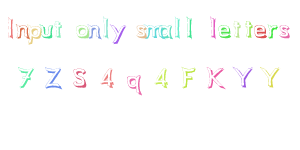4: (148, 60, 174, 91), (95, 62, 119, 92)
7: (13, 60, 37, 90)
F: (176, 62, 200, 92)
I: (3, 11, 20, 41)
K: (201, 62, 230, 92)
S: (68, 61, 92, 90)
Y: (256, 63, 285, 91), (229, 63, 257, 91)
Z: (41, 61, 65, 90)
a: (159, 21, 174, 42)
e: (217, 21, 232, 40), (253, 20, 267, 40)
l: (183, 14, 196, 41), (206, 15, 219, 42), (100, 14, 112, 41), (172, 13, 183, 39)
m: (142, 21, 163, 41)
n: (86, 20, 103, 41), (15, 21, 31, 41)
o: (73, 21, 90, 40)
p: (26, 23, 44, 47)
q: (123, 69, 148, 97)
r: (267, 20, 279, 40)
s: (277, 19, 293, 40), (134, 23, 148, 41)
t: (231, 16, 243, 40), (53, 17, 65, 39), (243, 16, 253, 39)
u: (38, 20, 54, 41)
y: (110, 21, 128, 45)
